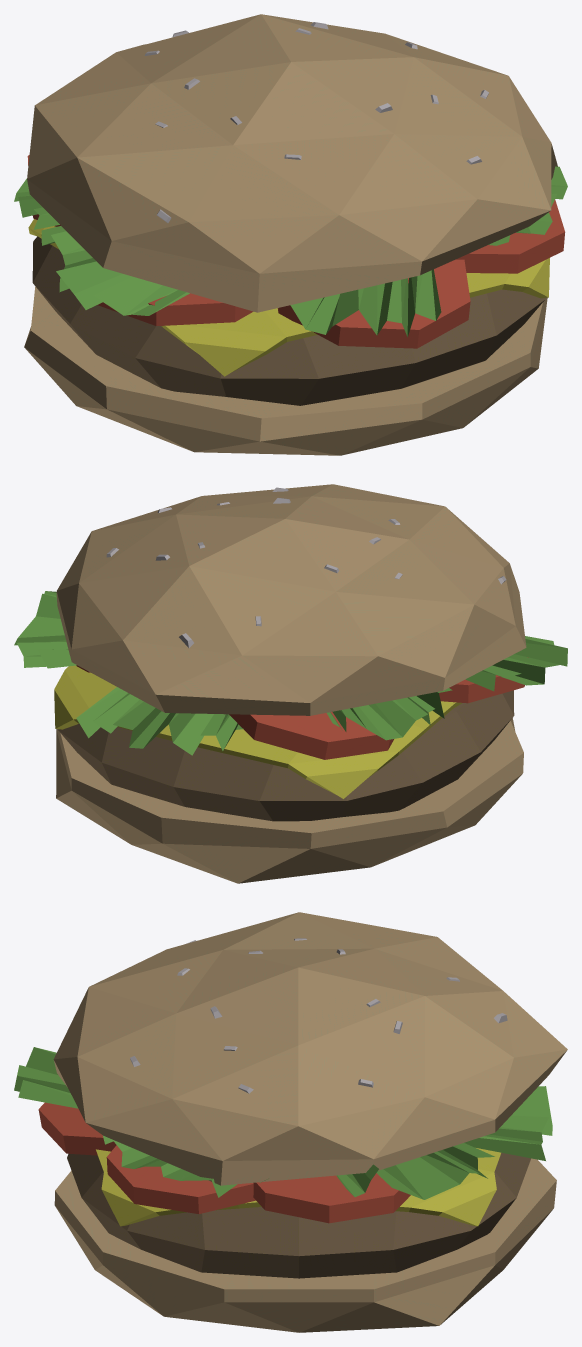
File: Burger-transformed.glb
3 views of the same model, one above another, from view 1: azimuth 30°, elevation 25°; view 2: azimuth 150°, elevation 25°; view 3: azimuth 270°, elevation 25° (orthographic). The views are drawn at different scales.
Visible parts, largest first — view 1: Burger; view 2: Burger; view 3: Burger.
Part boxes in pixels (<box>): Burger: <box>14,14,567,455</box>; Burger: <box>14,484,567,883</box>; Burger: <box>14,912,567,1332</box>.
Size of the model in its own units: 1.65 by 1.07 by 1.7.
1 material, 1 textured.
